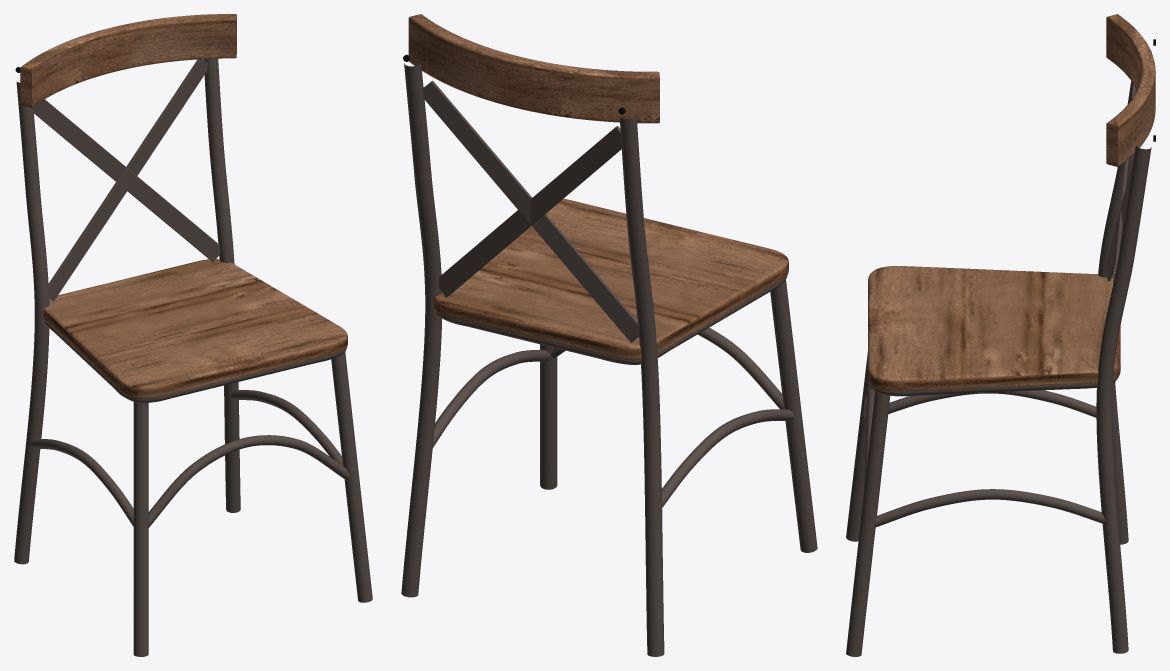
The model's file is chair-bistrot.glb.
The picture shows the model from 3 angles, left to right: view 1: azimuth 30°, elevation 25°; view 2: azimuth 150°, elevation 25°; view 3: azimuth 270°, elevation 25°; orthographic projection. The views are drawn at different scales.
Size of the model in its own units: 0.46 by 0.9215 by 0.4902.
3 materials, 1 textured.
